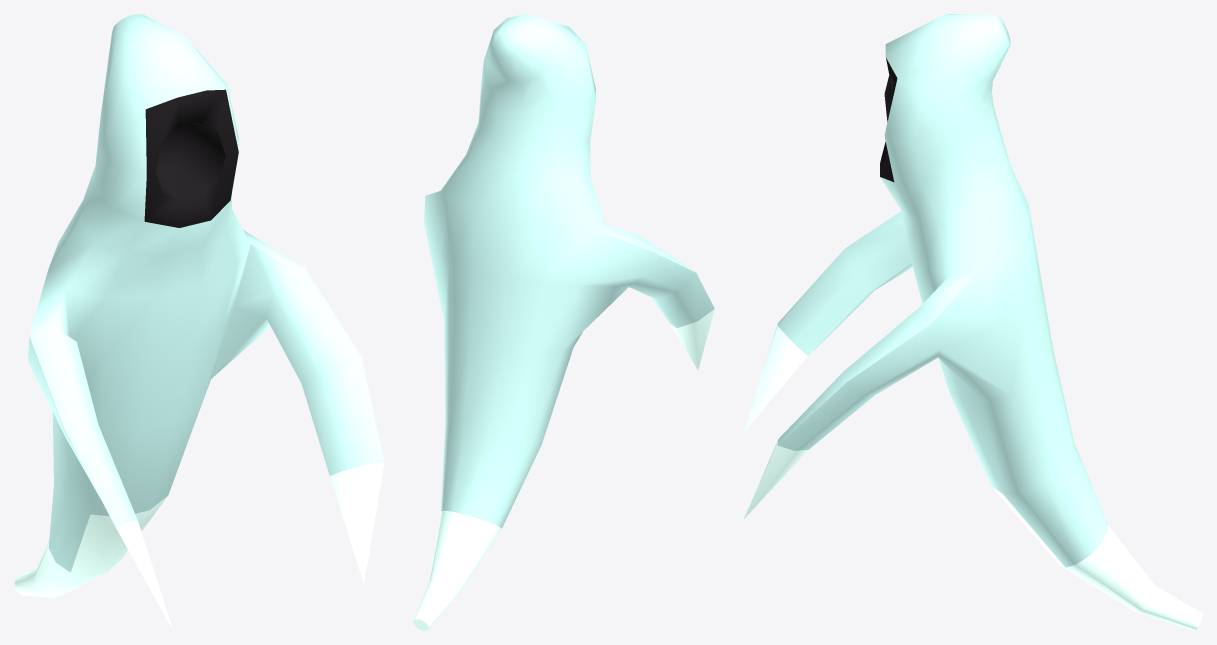
The model's file is Shade.fbx.
3 renders of one model, left to right at view 1: azimuth 30°, elevation 25°; view 2: azimuth 150°, elevation 25°; view 3: azimuth 270°, elevation 25°, orthographic. The views are drawn at different scales.
Parts seen in each view (by area): view 1: Shade; view 2: Shade; view 3: Shade.
Boxes of the visible parts, x1,y1,x2,y2 form: Shade: (14,14,384,629); Shade: (413,14,714,630); Shade: (743,14,1202,630).
Size of the model in its own units: 1 by 2.12 by 1.44.
